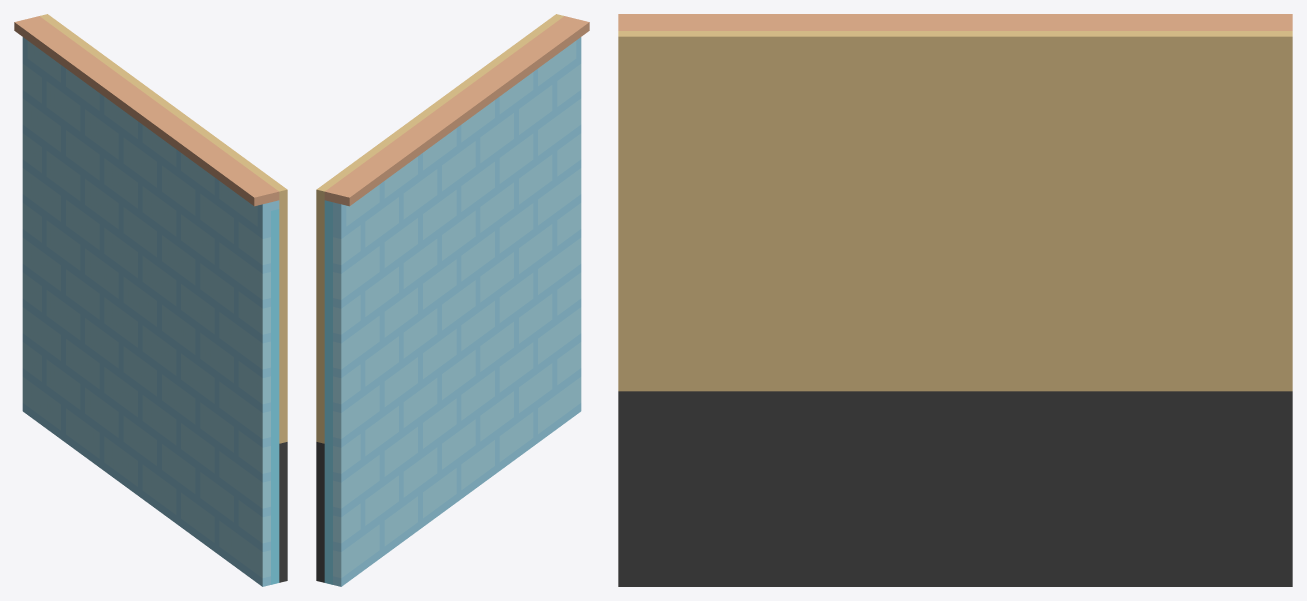
File: Kitchen_wall2.obj
3 renders of one model, left to right at view 1: azimuth 30°, elevation 25°; view 2: azimuth 150°, elevation 25°; view 3: azimuth 270°, elevation 25°, orthographic. The views are drawn at different scales.
Bounding box in the file's own units: 0.4 × 4.5 × 5.
